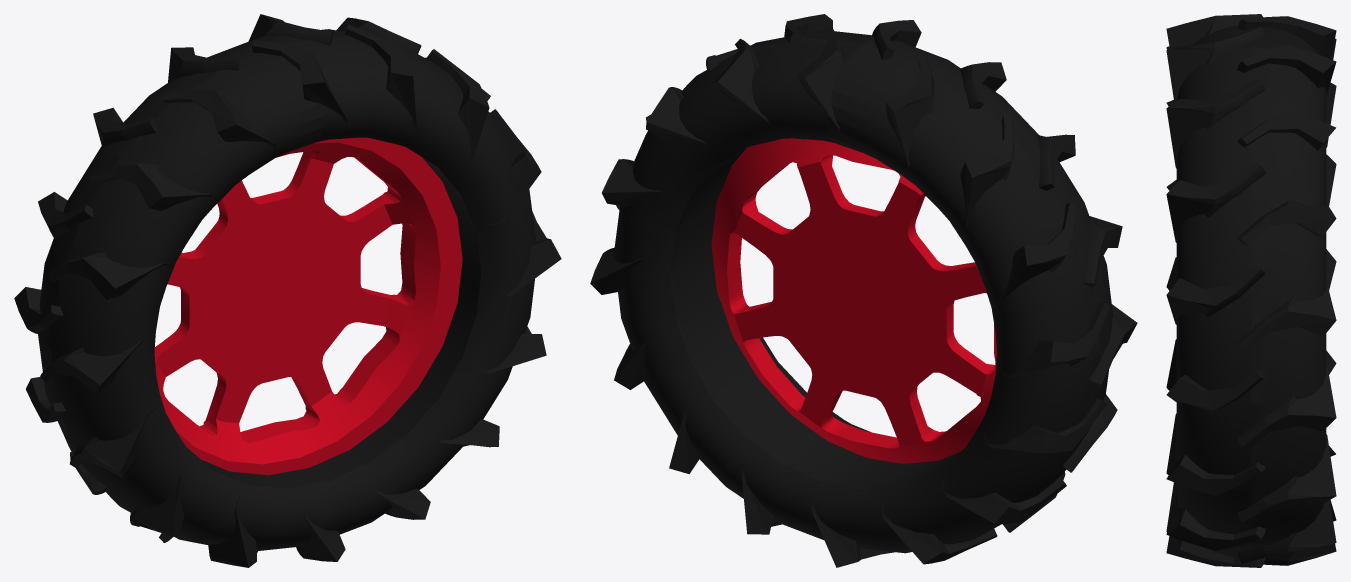
The model's file is leftBackWheel3.DAE.
The picture shows the model from 3 angles, left to right: view 1: azimuth 30°, elevation 25°; view 2: azimuth 150°, elevation 25°; view 3: azimuth 270°, elevation 25°; orthographic projection.
Parts seen in each view (by area): view 1: Torus02, Cylinder16, Cylinder46, Cylinder39, Cylinder47, Cylinder35, Cylinder33, Cylinder44, Cylinder37, Cylinder42, Cylinder41, Cylinder38 (+13 smaller); view 2: Torus02, Cylinder16, Cylinder61, Cylinder54, Cylinder58, Cylinder51, Cylinder49, Cylinder55, Cylinder62, Cylinder56, Cylinder63, Cylinder52 (+13 smaller); view 3: Torus02, Cylinder44, Cylinder50, Cylinder37, Cylinder57, Cylinder59, Cylinder41, Cylinder33, Cylinder20, Cylinder49, Cylinder52, Cylinder53 (+12 smaller).
Boxes of the visible parts, <box> form: Torus02: <box>38,29,536,551</box>; Cylinder16: <box>154,137,462,475</box>; Cylinder46: <box>47,252,170,299</box>; Cylinder39: <box>90,163,213,210</box>; Cylinder47: <box>162,90,275,154</box>; Cylinder35: <box>40,339,148,394</box>; Cylinder33: <box>252,40,347,123</box>; Cylinder44: <box>344,24,416,137</box>; Cylinder37: <box>426,49,489,164</box>; Cylinder42: <box>70,407,157,477</box>; Cylinder41: <box>489,109,541,224</box>; Cylinder38: <box>130,466,185,536</box>; Torus02: <box>613,30,1113,553</box>; Cylinder16: <box>711,138,996,463</box>; Cylinder61: <box>885,52,934,172</box>; Cylinder54: <box>959,115,1014,229</box>; Cylinder58: <box>993,202,1076,301</box>; Cylinder51: <box>1001,302,1109,379</box>; Cylinder49: <box>796,26,845,137</box>; Cylinder55: <box>942,477,1066,524</box>; Cylinder62: <box>983,398,1106,453</box>; Cylinder56: <box>713,39,771,128</box>; Cylinder63: <box>882,502,997,564</box>; Cylinder52: <box>646,87,709,147</box>; Torus02: <box>1176,25,1326,557</box>; Cylinder44: <box>1166,79,1265,168</box>; Cylinder50: <box>1237,365,1336,449</box>; Cylinder37: <box>1166,162,1265,242</box>; Cylinder57: <box>1237,434,1336,523</box>; Cylinder59: <box>1237,284,1336,351</box>; Cylinder41: <box>1166,265,1265,324</box>; Cylinder33: <box>1166,27,1265,102</box>; Cylinder20: <box>1166,494,1265,550</box>; Cylinder49: <box>1237,45,1336,94</box>; Cylinder52: <box>1237,198,1336,244</box>; Cylinder53: <box>1237,500,1336,563</box>.
Bounding box in the file's own units: 25.05 × 7.73 × 25.05.
